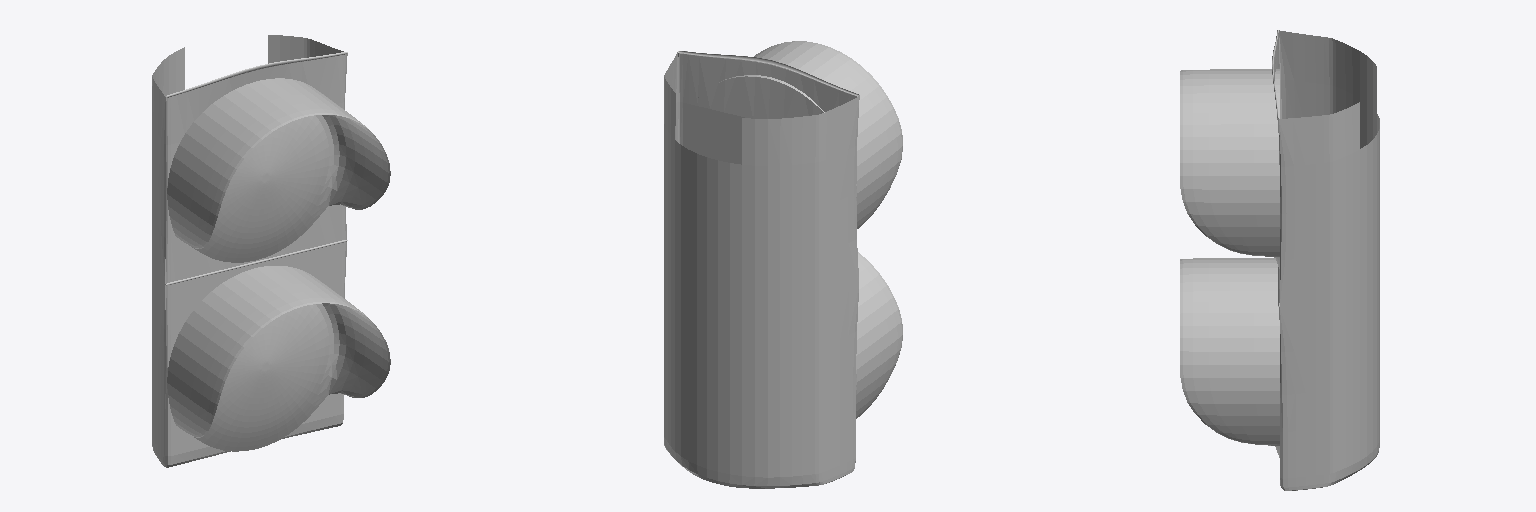
Rendered from trafficsignalcrossingSign.obj.
The picture shows the model from 3 angles: view 1: azimuth 30°, elevation 25°; view 2: azimuth 150°, elevation 25°; view 3: azimuth 270°, elevation 25°; orthographic projection.
Visible parts, largest first — view 1: Circle.002, Circle.001, Plane; view 2: Plane, Circle.001, Circle.002; view 3: Plane, Circle.002, Circle.001.
Boxes of the visible parts, box(x1,y1,x2,y2) form: Circle.002: box(167, 266, 390, 451); Circle.001: box(167, 78, 390, 262); Plane: box(152, 35, 347, 467); Plane: box(664, 51, 859, 488); Circle.001: box(698, 41, 902, 228); Circle.002: box(856, 252, 902, 418); Plane: box(1272, 30, 1379, 490); Circle.002: box(1180, 258, 1279, 457); Circle.001: box(1180, 69, 1279, 268).
Bounding box in the file's own units: 2.04 × 4.13 × 1.95.